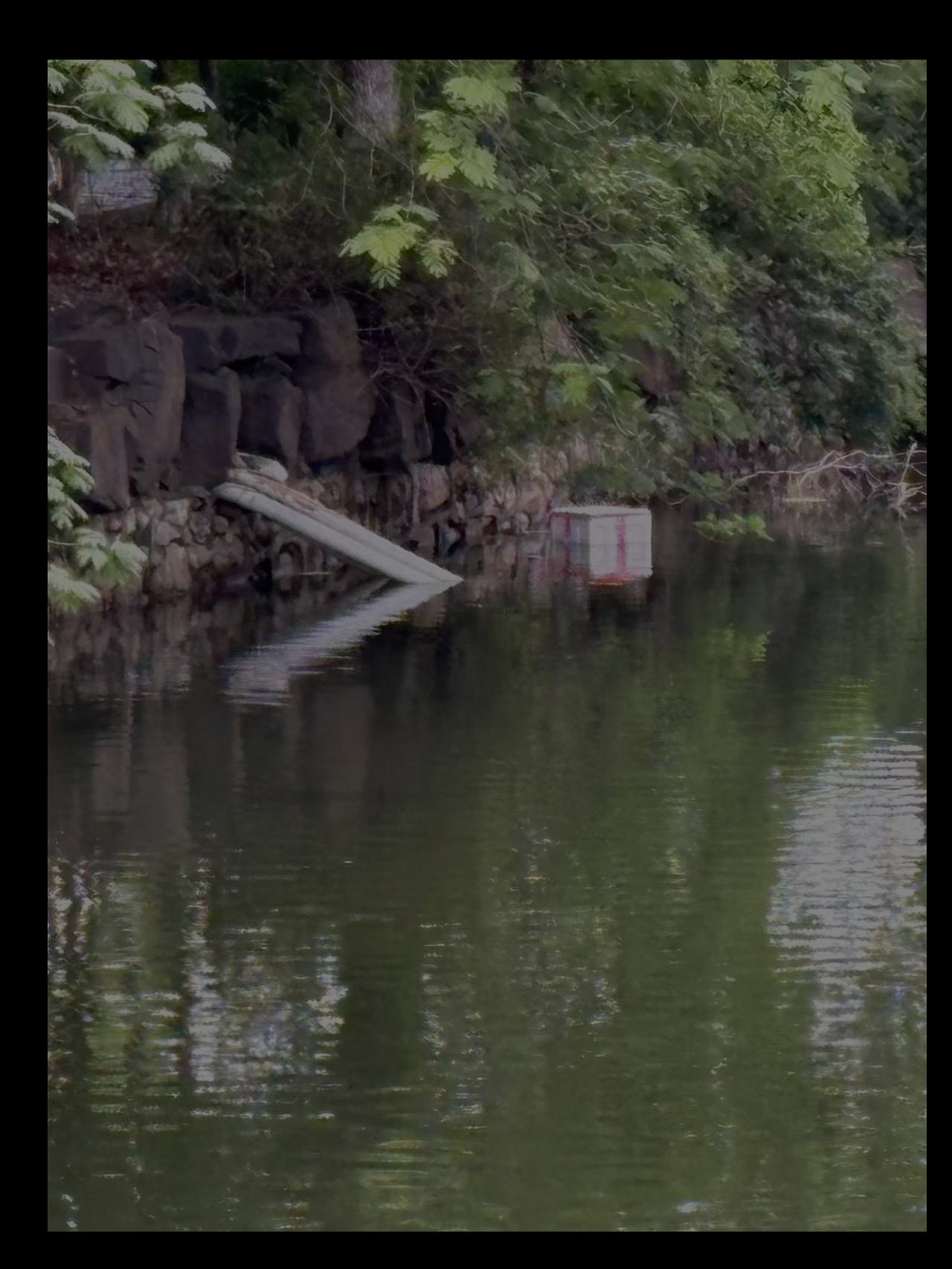Plastic wastes: (547, 505, 656, 570)
